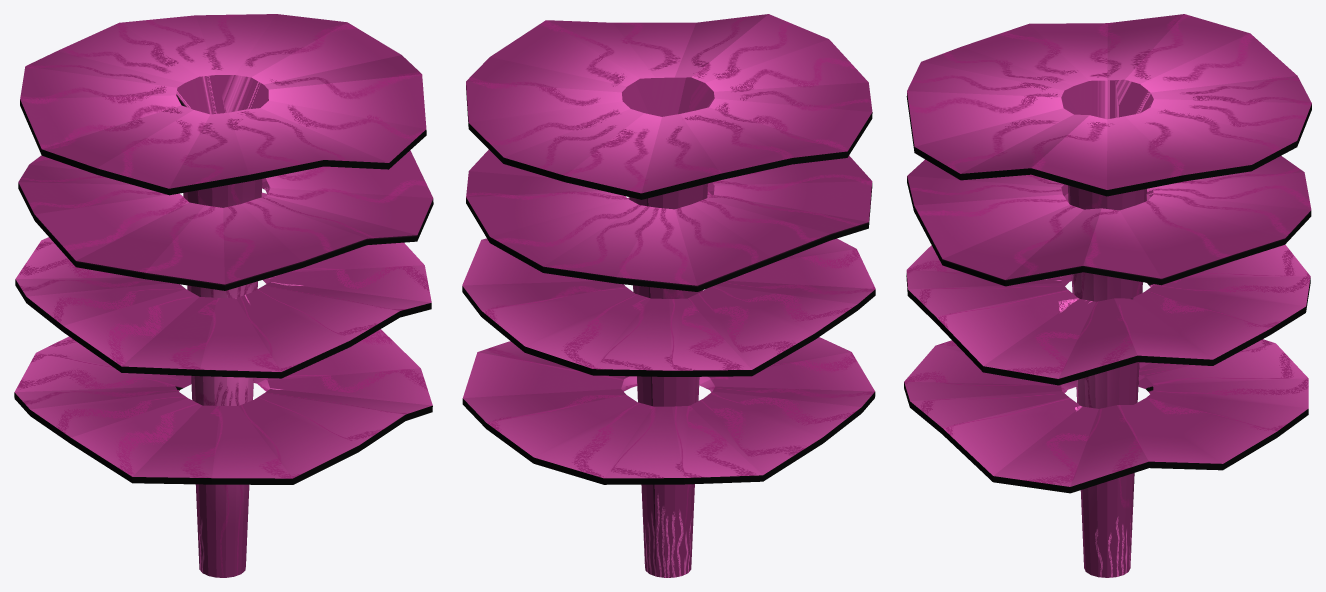
The model's file is caral_arvere.obj.
3 renders of one model, left to right at view 1: azimuth 30°, elevation 25°; view 2: azimuth 150°, elevation 25°; view 3: azimuth 270°, elevation 25°, orthographic.
Visible parts, largest first — view 1: Cylinder; view 2: Cylinder; view 3: Cylinder.
Boxes of the visible parts, <box> form: Cylinder: <box>14,14,433,577</box>; Cylinder: <box>462,14,875,577</box>; Cylinder: <box>904,14,1311,577</box>.
Bounding box in the file's own units: 17.7 × 22.65 × 17.53.
Materials: 1 (1 with a texture image).
